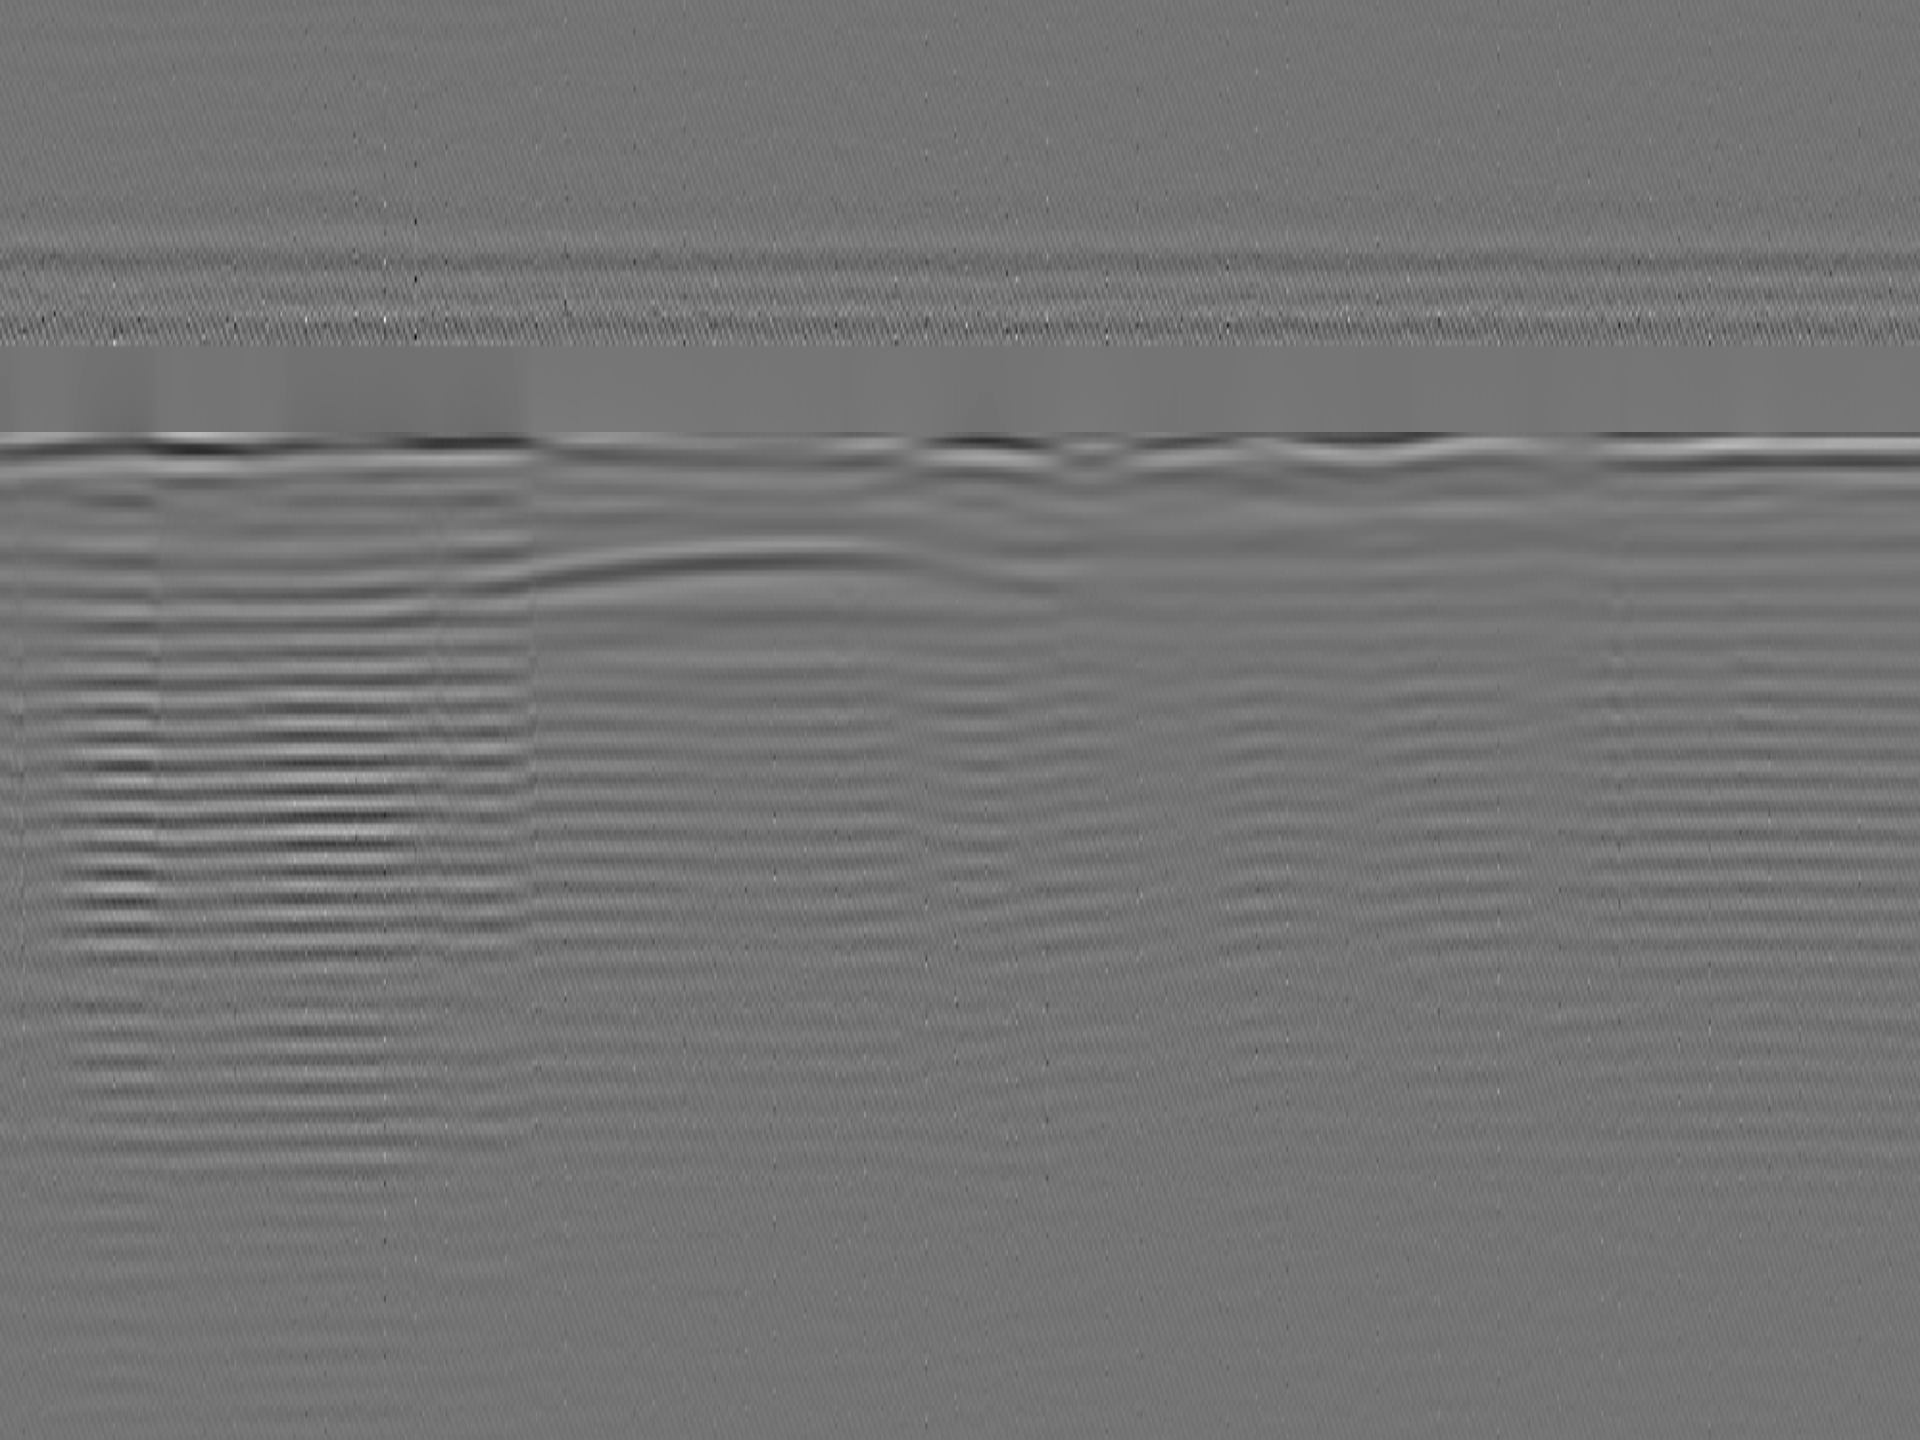Tunnel: (440, 542, 1114, 611)
